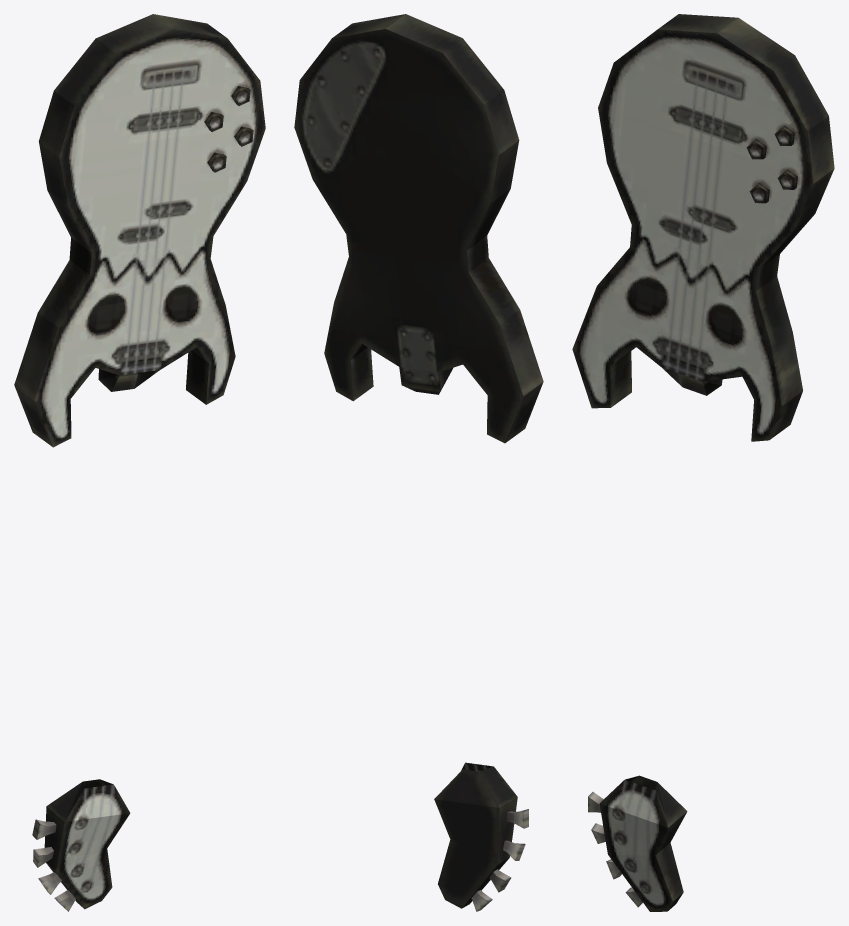
Rendered from Bison_superStarBass.obj.
3 views of the same model, side by side, from view 1: azimuth 30°, elevation 25°; view 2: azimuth 150°, elevation 25°; view 3: azimuth 330°, elevation 25° (orthographic). The views are drawn at different scales.
Visible parts, largest first — view 1: Bison_superStarBass_tri; view 2: Bison_superStarBass_tri; view 3: Bison_superStarBass_tri.
Boxes of the visible parts, x1=… form: Bison_superStarBass_tri: x1=14, y1=14, x2=265, y2=911; Bison_superStarBass_tri: x1=294, y1=14, x2=543, y2=911; Bison_superStarBass_tri: x1=572, y1=14, x2=834, y2=911.
Bounding box in the file's own units: 0.9789 × 3.53 × 0.1682.
1 material, 1 textured.
